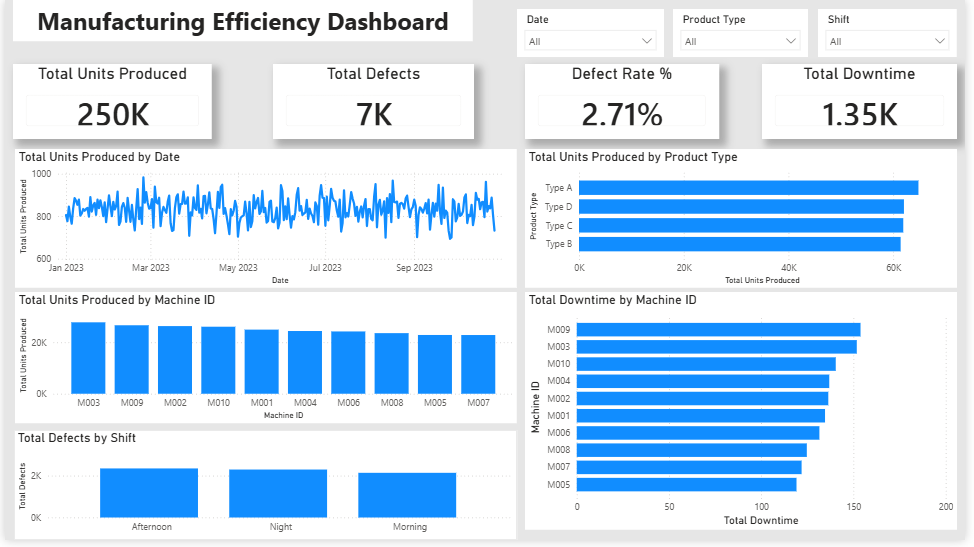

Layout of this report page (visuals, bound fields, positions):
{"tool":"powerbi","page":{"name":"Page 1","canvas":[1280,720],"ordinal":0},"visuals":[{"type":"textbox","box":[10.7,0,613.3,54.7],"z":0},{"type":"cardVisual","title":"Total Units Produced","fields":{"Data":["Measures (2).Total Units Produced"]},"box":[10.7,85.3,265.3,100],"z":1000},{"type":"cardVisual","title":"Total Defects","fields":{"Data":["Measures (2).Total Defects"]},"box":[357.3,85.3,268,100],"z":2000},{"type":"cardVisual","title":"Defect Rate %","fields":{"Data":["Measures (2).Defect Rate %"]},"box":[693.3,85.3,258.7,100],"z":3000},{"type":"cardVisual","title":"Total Downtime","fields":{"Data":["Measures (2).Total Downtime"]},"box":[1009.3,85.3,260,100],"z":4000},{"type":"lineChart","fields":{"Y":["Measures (2).Total Units Produced"],"Category":["Manufacturing Data.Date"]},"box":[13.3,198.7,669.3,185.3],"z":5000},{"type":"clusteredBarChart","fields":{"Category":["Manufacturing Data.Product Type"],"Y":["Measures (2).Total Units Produced"]},"box":[693.3,198.7,576,185.3],"z":6000},{"type":"clusteredColumnChart","fields":{"Category":["Manufacturing Data.Machine ID"],"Y":["Measures (2).Total Units Produced"]},"box":[13.3,389.3,669.3,174.7],"z":7000},{"type":"clusteredBarChart","fields":{"Category":["Manufacturing Data.Machine ID"],"Y":["Measures (2).Total Downtime"]},"box":[693.3,389.3,576,317.3],"z":8000},{"type":"clusteredColumnChart","fields":{"Category":["Manufacturing Data.Shift"],"Y":["Measures (2).Total Defects"]},"box":[12,573.3,670.7,146.7],"z":9000},{"type":"slicer","fields":{"Values":["Manufacturing Data.Date"]},"box":[682.7,12,196,64],"z":10000},{"type":"slicer","fields":{"Values":["Manufacturing Data.Product Type"]},"box":[890.7,12,180,64],"z":11000},{"type":"slicer","fields":{"Values":["Manufacturing Data.Shift"]},"box":[1084,12,185.3,64],"z":12000}]}

Visuals, with their boxes in screenshot pixels (x1, y1, x2, y2), scaled from the page's 1280x720 canvas onto the 974x547 screenshot:
textbox: 8,0,475,42
"Total Units Produced" cardVisual: 8,65,210,141
"Total Defects" cardVisual: 272,65,476,141
"Defect Rate %" cardVisual: 528,65,724,141
"Total Downtime" cardVisual: 768,65,966,141
lineChart - Measures (2).Total Units Produced x Manufacturing Data.Date: 10,151,519,292
clusteredBarChart - Manufacturing Data.Product Type x Measures (2).Total Units Produced: 528,151,966,292
clusteredColumnChart - Manufacturing Data.Machine ID x Measures (2).Total Units Produced: 10,296,519,428
clusteredBarChart - Manufacturing Data.Machine ID x Measures (2).Total Downtime: 528,296,966,537
clusteredColumnChart - Manufacturing Data.Shift x Measures (2).Total Defects: 9,436,519,546
slicer - Manufacturing Data.Date: 519,9,669,58
slicer - Manufacturing Data.Product Type: 678,9,815,58
slicer - Manufacturing Data.Shift: 825,9,966,58
